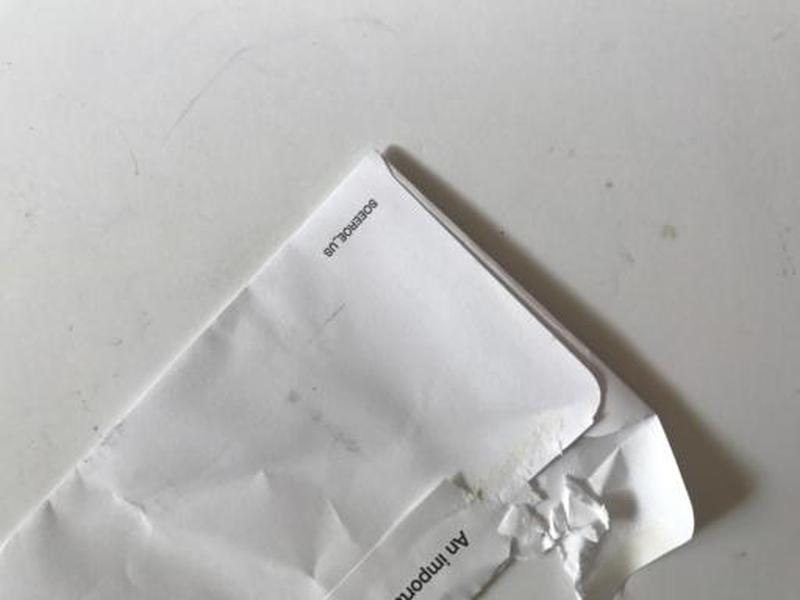paper: (2, 142, 698, 600)
